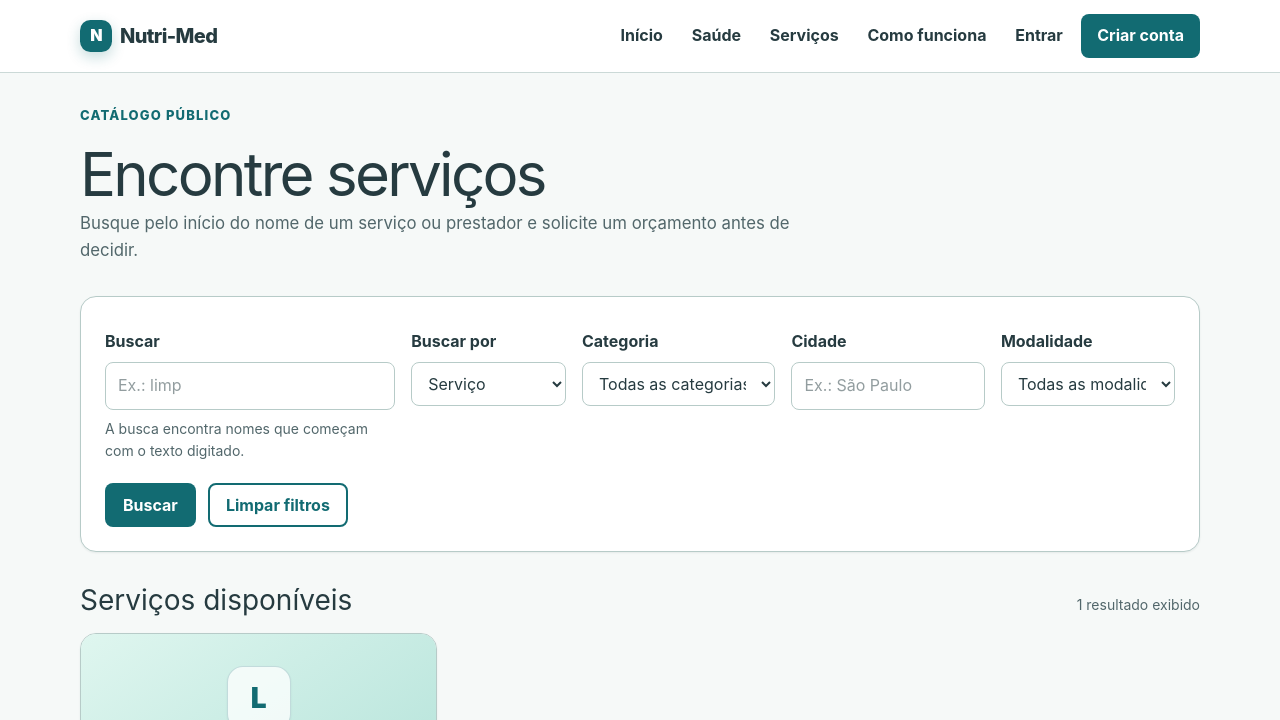
Test: catálogo público › combina filtros no contrato de busca por prefixo e limpa todos os campos
Step 1. Type "limp" into the field labelled "Buscar" → (250, 386), box [105,362,395,410]
Step 2. Select "Prestador" in the dropdown labelled "Buscar por" → (489, 384), box [411,362,566,406]
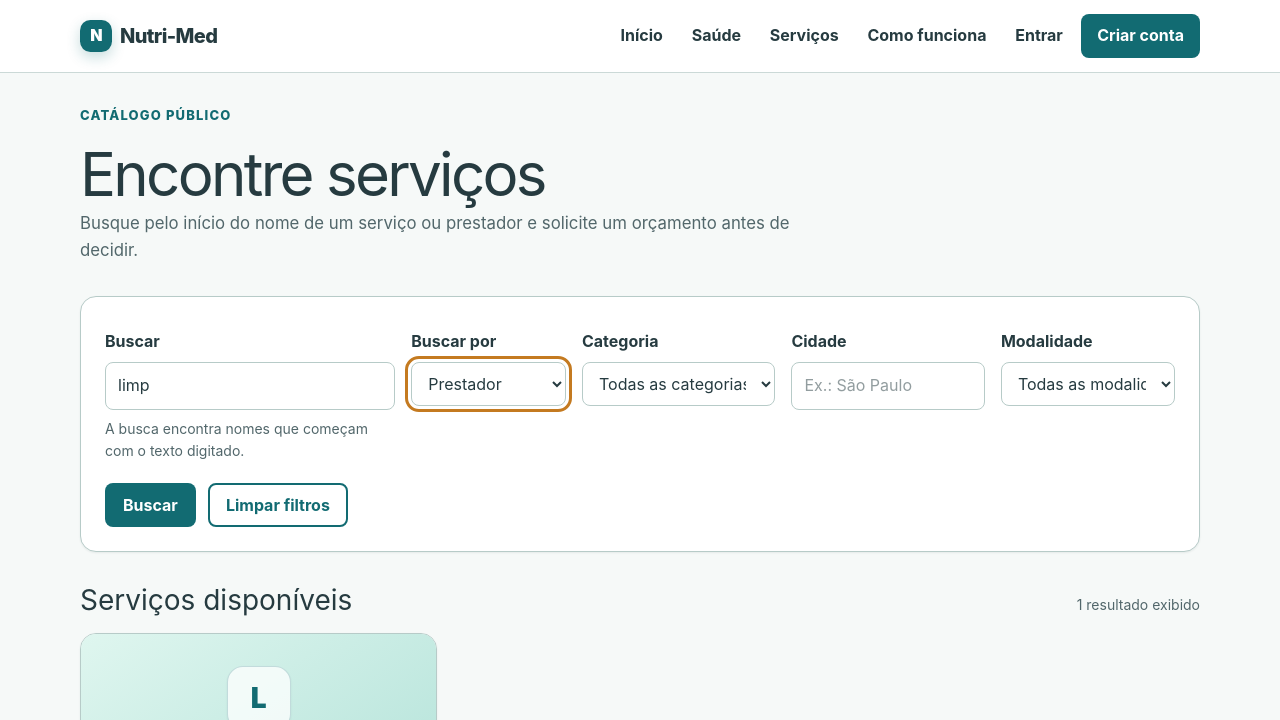
Step 3. Select "Limpeza" in the dropdown labelled "Categoria" → (679, 384), box [582,362,776,406]
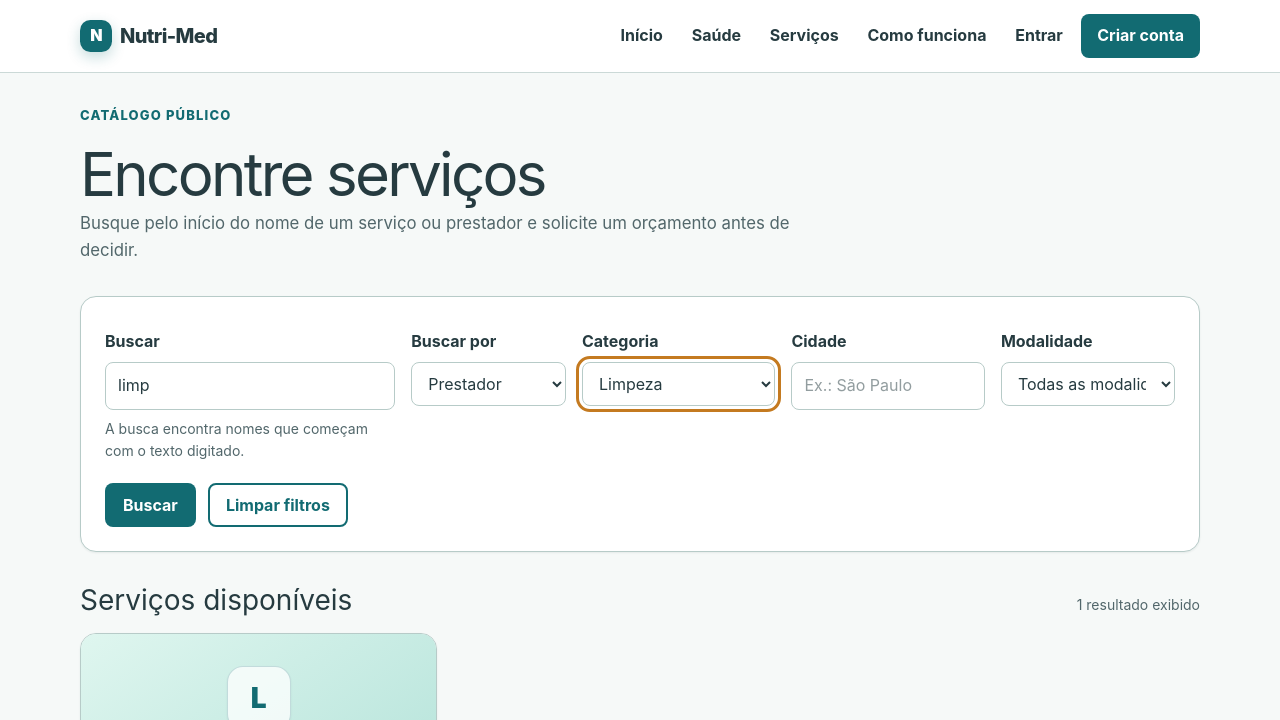
Step 4. Type " São Paulo " into the field labelled "Cidade" → (888, 386), box [791,362,985,410]
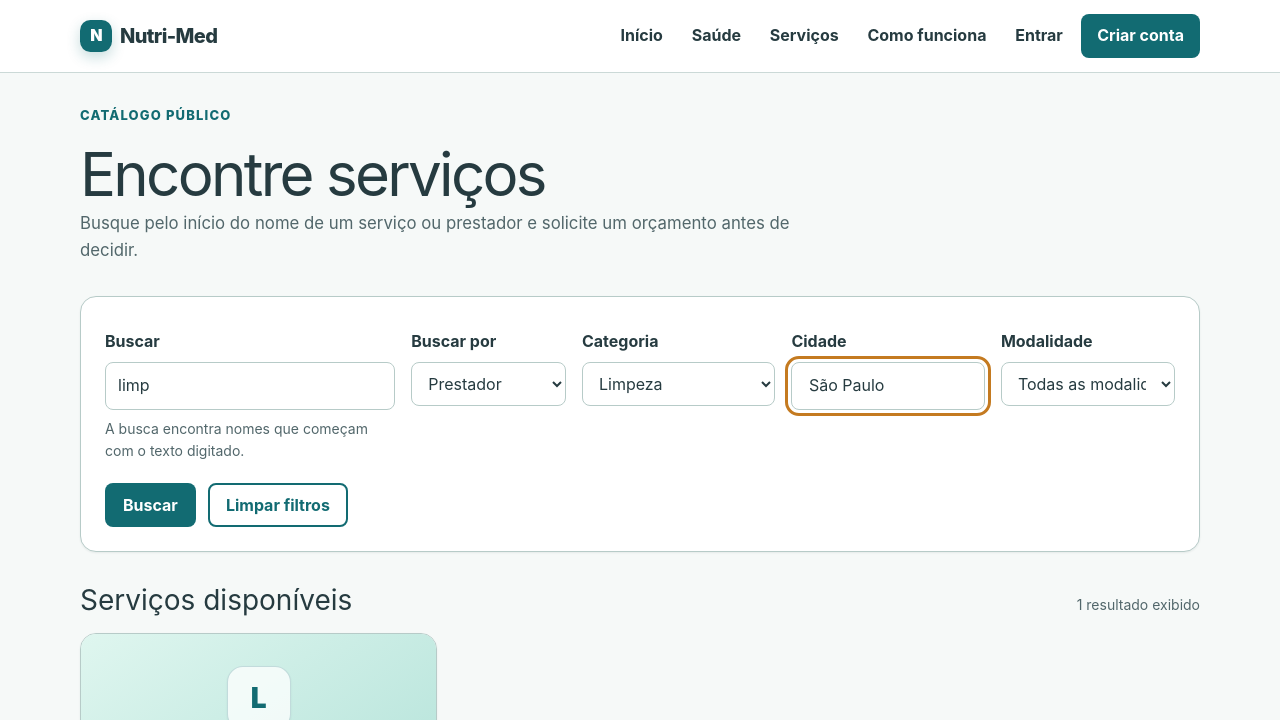
Step 5. Select "Presencial" in the dropdown labelled "Modalidade" → (1088, 384), box [1001,362,1175,406]
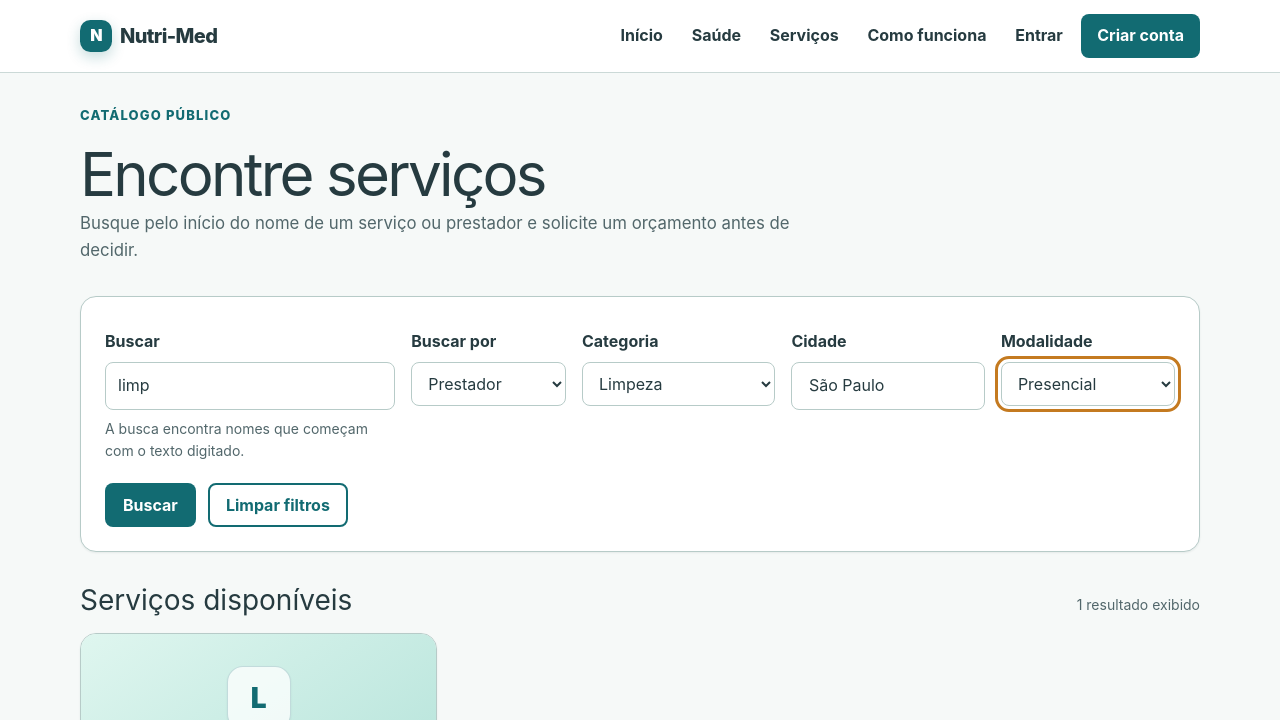
Step 6. Click the button "Buscar" → (150, 504), box [105,482,196,526]
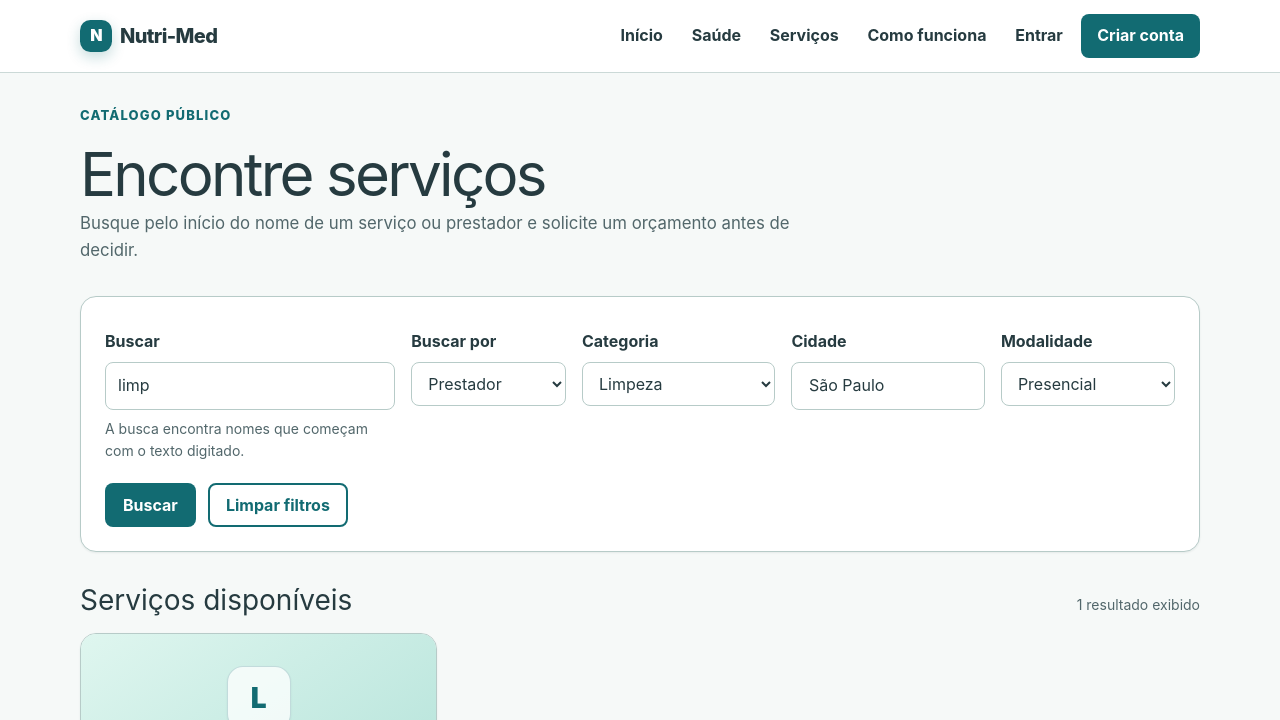
Step 7. Click the button "Limpar filtros" → (278, 504), box [208,482,348,526]
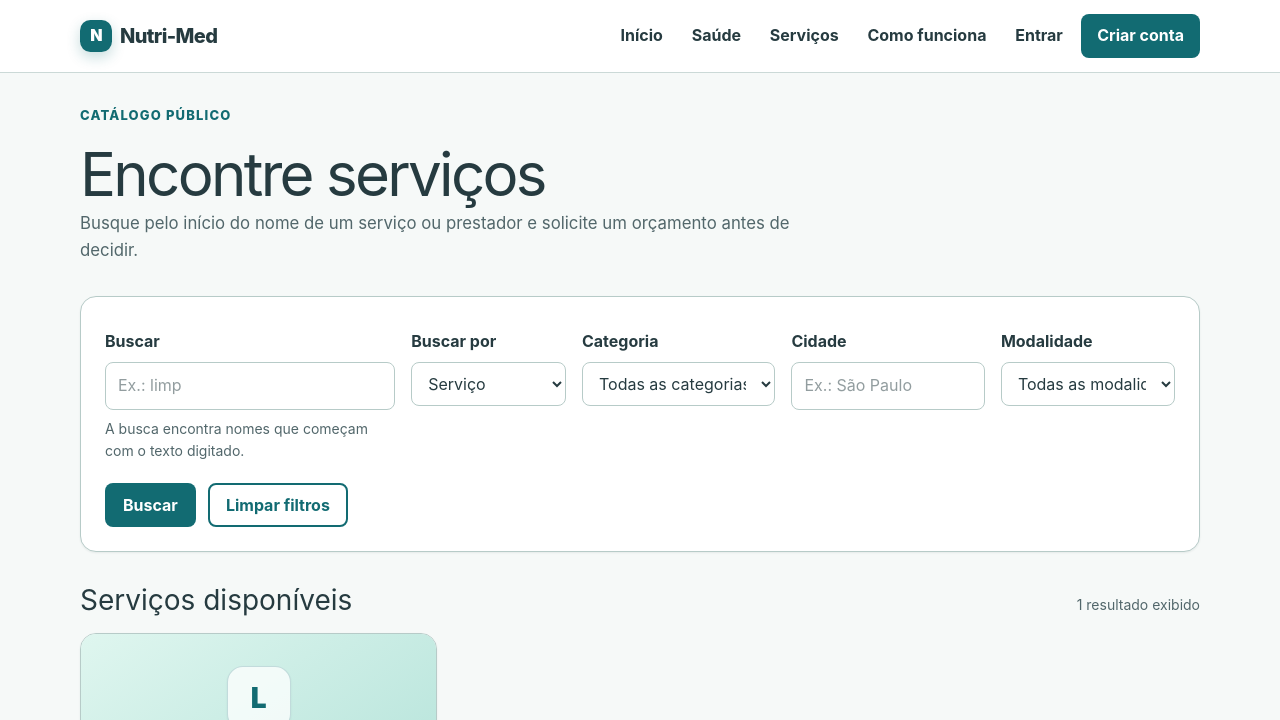
Expected: the field labelled "Buscar" is empty, [105,362,395,410]
Expected: the field labelled "Cidade" is empty, [791,362,985,410]
